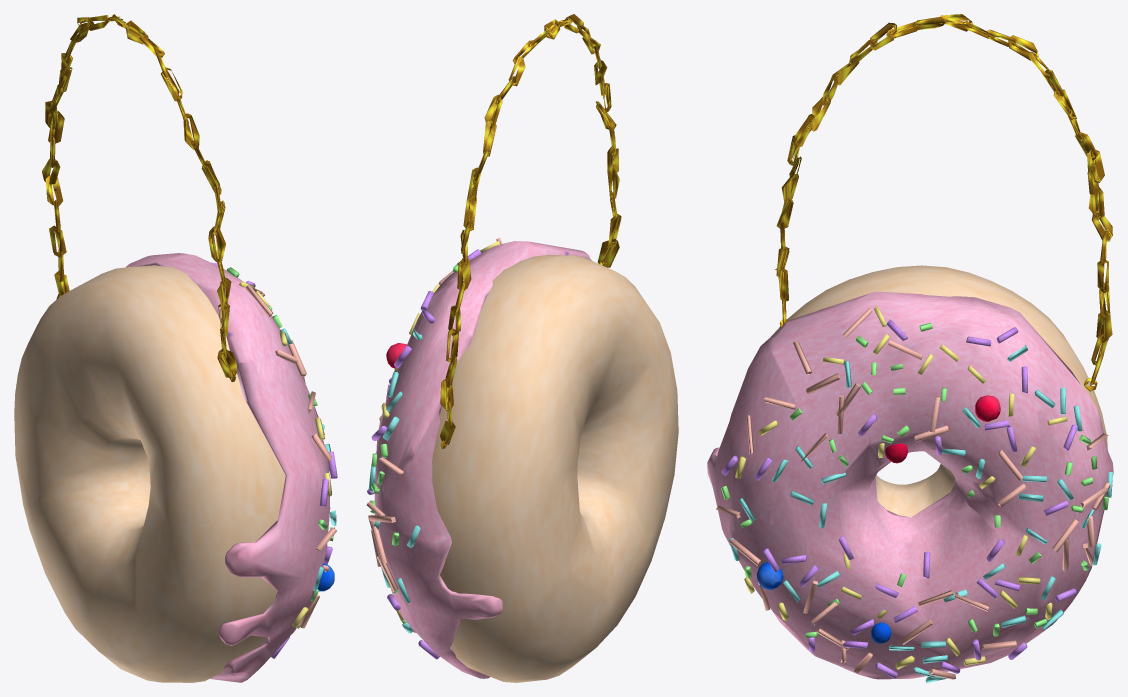
Rendered from donut.fbx.
3 renders of one model, left to right at view 1: azimuth 30°, elevation 25°; view 2: azimuth 150°, elevation 25°; view 3: azimuth 270°, elevation 25°, orthographic. The views are drawn at different scales.
Visible parts, largest first — view 1: donut; view 2: donut; view 3: donut.
Boxes of the visible parts, box(x1,y1,x2,y2) form: donut: box(14, 14, 337, 682); donut: box(366, 14, 678, 682); donut: box(707, 14, 1113, 682).
Size of the model in its own units: 87.97 by 286 by 165.
1 material, 1 textured.
